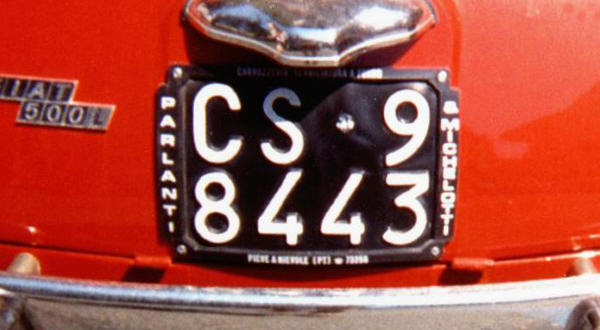license_plate: (168, 63, 448, 259)
